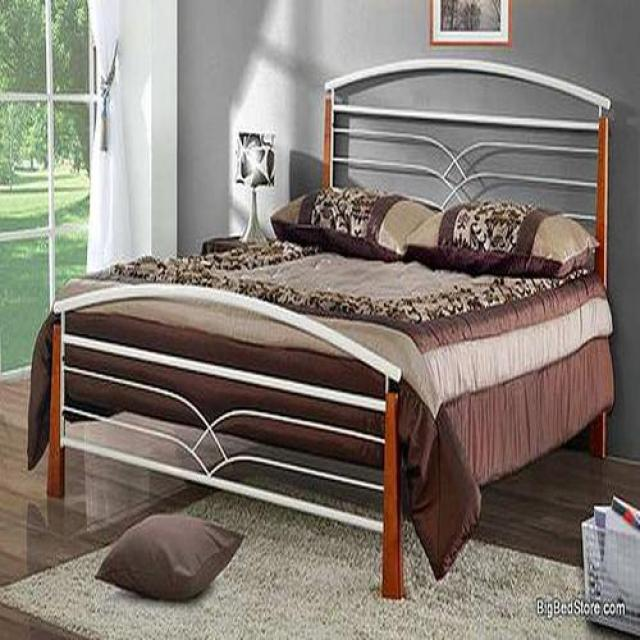bed: (28, 60, 614, 596)
